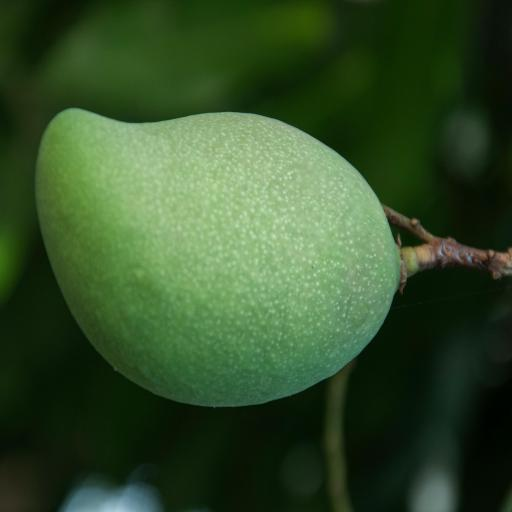Mango-Detection: (23, 61, 479, 473)
